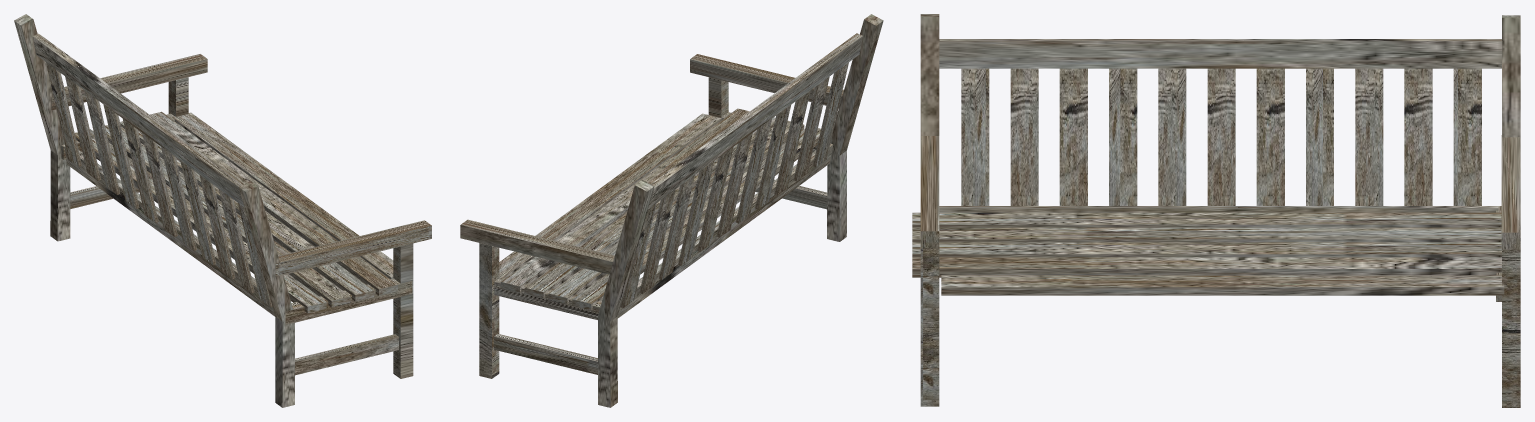
Rendered from banco.fbx.
3 views of the same model, side by side, from view 1: azimuth 30°, elevation 25°; view 2: azimuth 150°, elevation 25°; view 3: azimuth 270°, elevation 25° (orthographic). The views are drawn at different scales.
Visible parts, largest first — view 1: Banco; view 2: Banco; view 3: Banco.
Boxes of the visible parts, box(x1,y1,x2,y2) form: Banco: box(14, 14, 431, 407); Banco: box(460, 14, 883, 407); Banco: box(912, 14, 1520, 407).
Bounding box in the file's own units: 149 × 172 × 324.
1 material, 1 textured.
